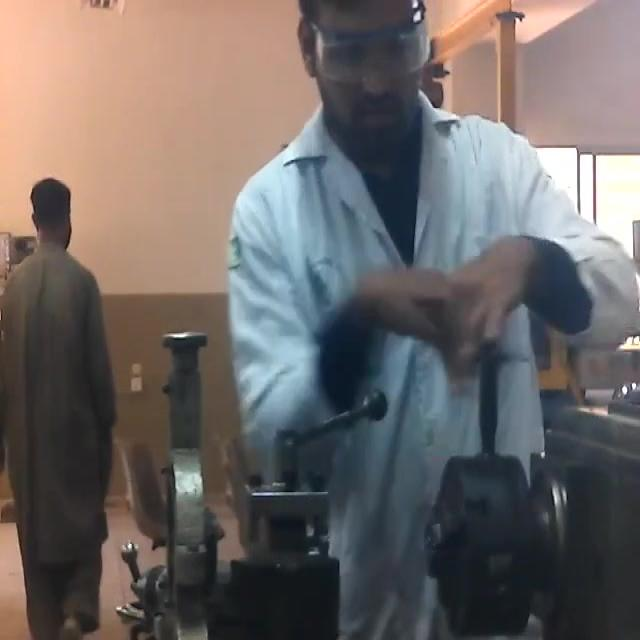googles: (305, 8, 434, 92)
labcoat: (227, 97, 638, 640)
